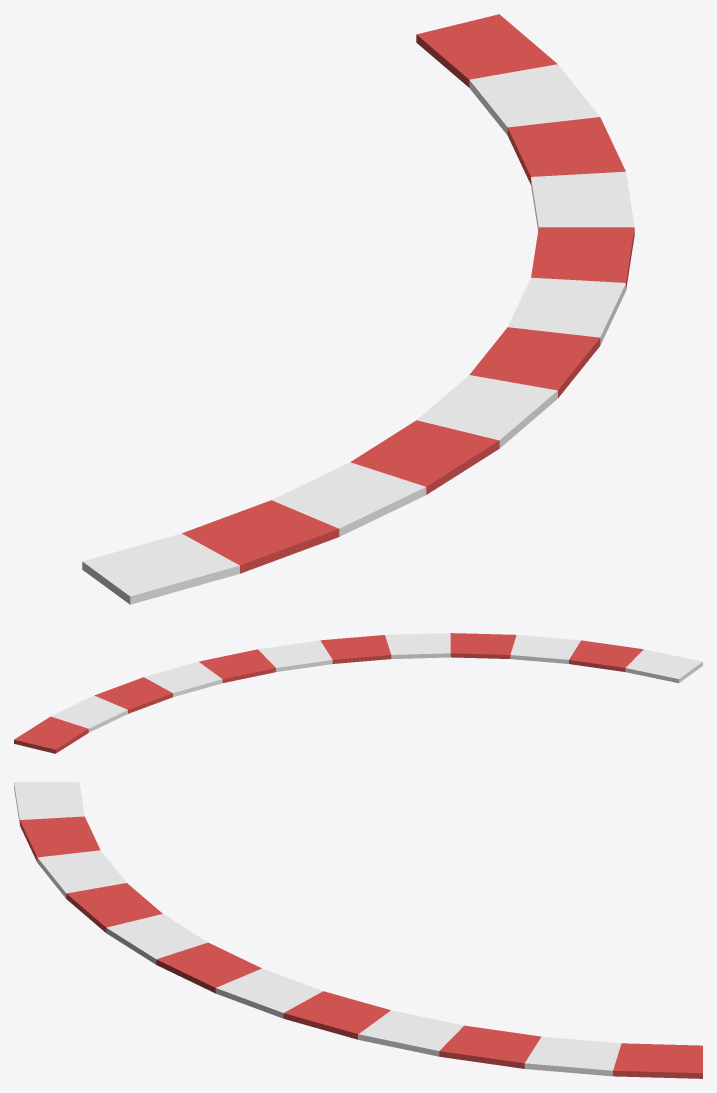
The model's file is road-corner-large-border.glb.
The picture shows the model from 3 angles, top to bottom: view 1: azimuth 30°, elevation 25°; view 2: azimuth 150°, elevation 25°; view 3: azimuth 270°, elevation 25°; orthographic projection. The views are drawn at different scales.
Parts seen in each view (by area): view 1: roadCornerLargeBorder; view 2: roadCornerLargeBorder; view 3: roadCornerLargeBorder.
Part boxes in pixels (box(x1,y1,x2,y2)): roadCornerLargeBorder: box(82, 14, 634, 604); roadCornerLargeBorder: box(14, 633, 702, 753); roadCornerLargeBorder: box(14, 782, 702, 1078).
Size of the model in its own units: 2.21 by 0.0201 by 2.21.
